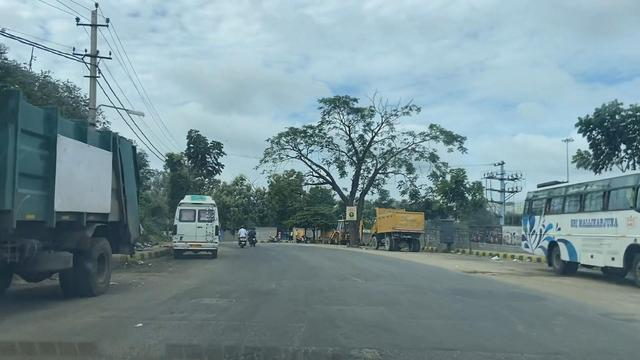HMV: (0, 82, 168, 313), (513, 168, 640, 289), (173, 192, 220, 261), (361, 204, 424, 249), (309, 211, 359, 247)
LMV: (234, 210, 258, 255), (245, 206, 267, 255), (291, 233, 311, 246)
RoadDamages: (448, 267, 531, 289)
